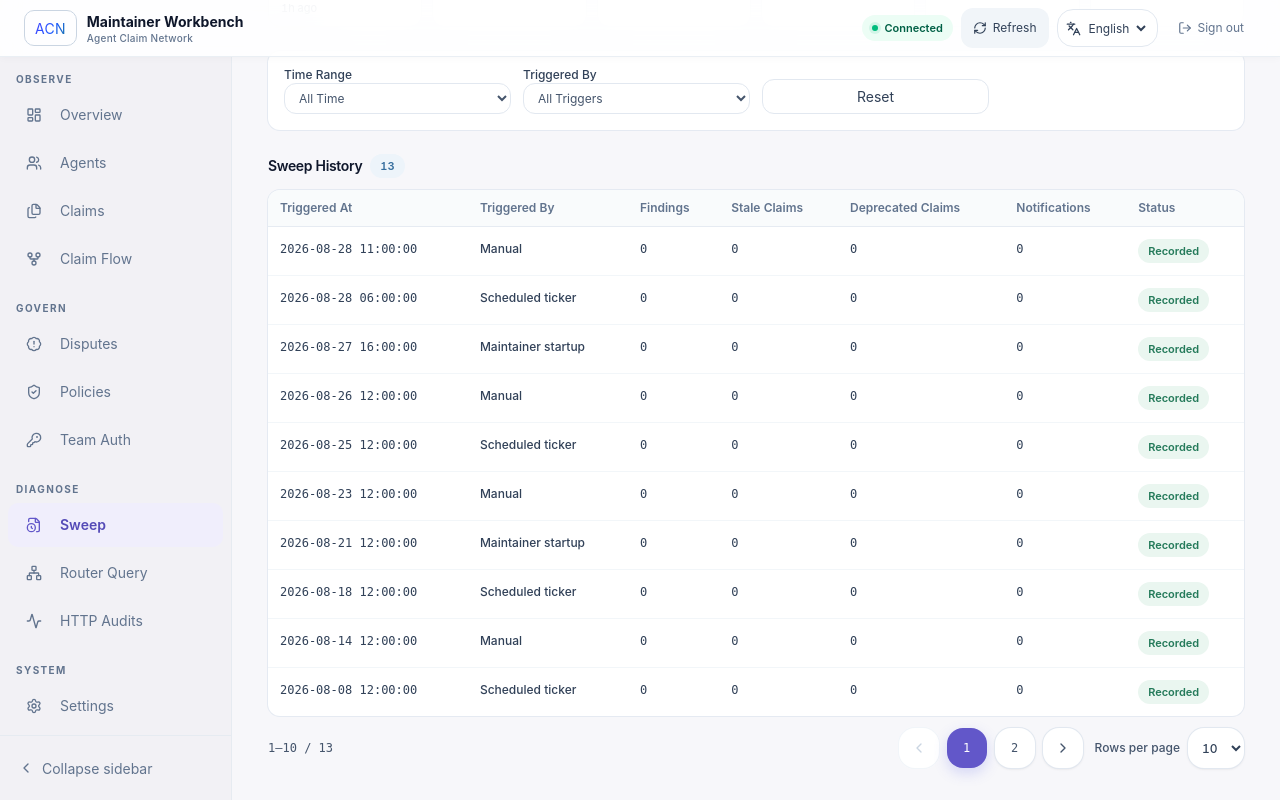
it: SweepPage history filters and pagination › paginates the complete sweep history
(page scrolled)
Expected: the heading "Sweep History" is shown, [268, 156, 362, 176]
Expected: the text "1–10 / 13" is shown, [268, 740, 333, 756]
Step 1. Click the button named "Next page" → coordinates (1062, 748), box [1042, 728, 1082, 768]
(page scrolled)
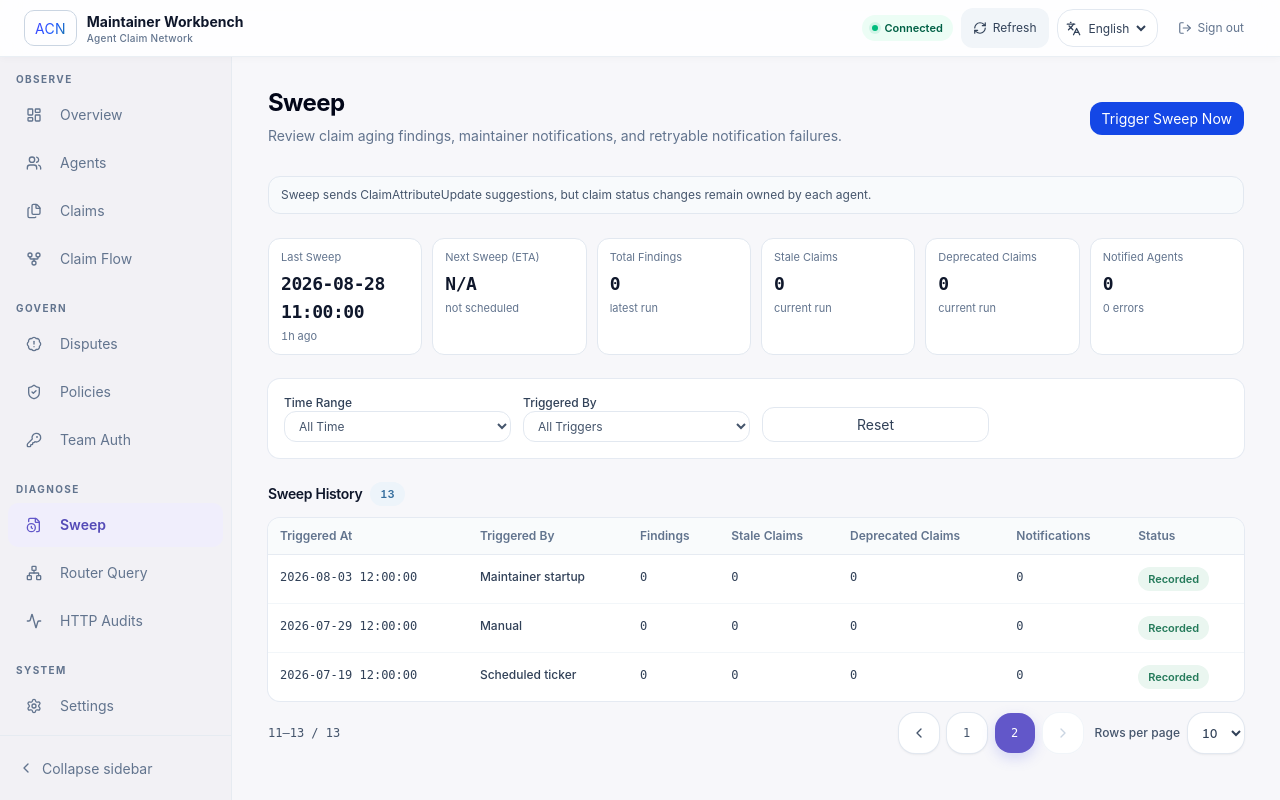
Result: the text "11–13 / 13" is shown at [268, 725, 340, 741]
